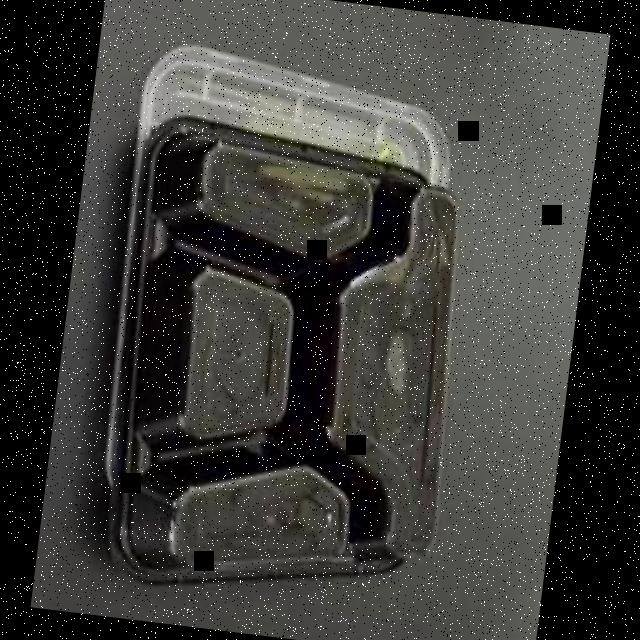plastic_box: (81, 33, 499, 620)
